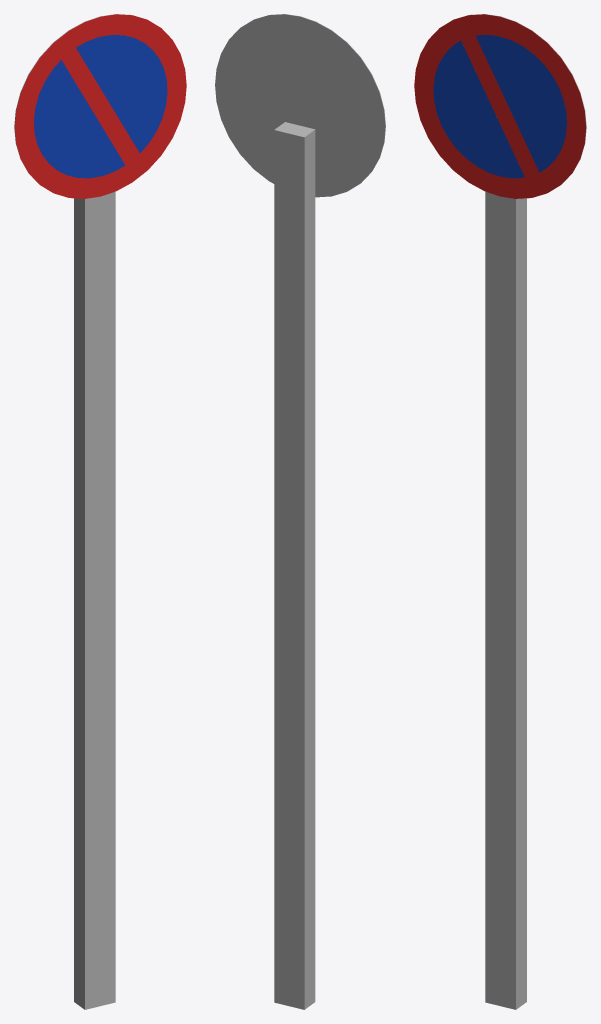
File: noentry.DAE
The picture shows the model from 3 angles, left to right: view 1: azimuth 30°, elevation 25°; view 2: azimuth 150°, elevation 25°; view 3: azimuth 330°, elevation 25°; orthographic projection.
Visible parts, largest first — view 1: girilmez; view 2: girilmez; view 3: girilmez.
Part boxes in pixels (x1,y1,x2,y2): girilmez: [14, 14, 186, 1009]; girilmez: [215, 14, 385, 1009]; girilmez: [414, 14, 586, 1009].
Bounding box in the file's own units: 17.72 × 97.44 × 2.05.
